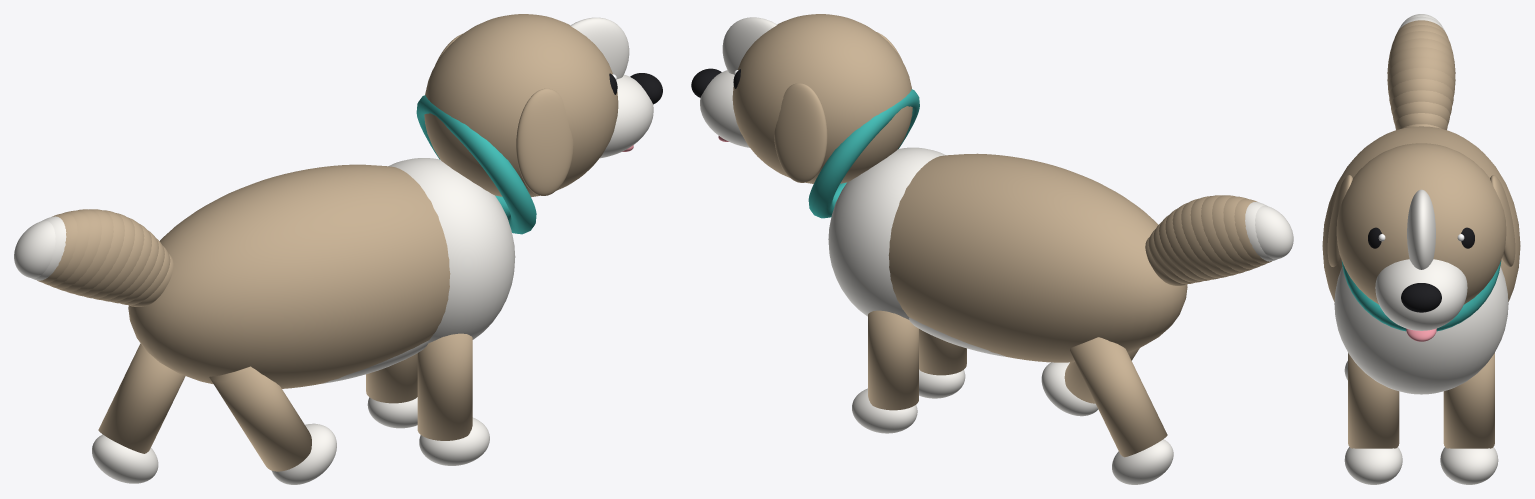
Rendered from shih_tzu.glb.
The picture shows the model from 3 angles, left to right: view 1: azimuth 30°, elevation 25°; view 2: azimuth 150°, elevation 25°; view 3: azimuth 270°, elevation 25°; orthographic projection. The views are drawn at different scales.
Parts seen in each view (by area): view 1: Body, Head, Chest, Leg3, Leg1, Leg2, Ear-1, Collar, Muzzle, Paw2, Leg0, Paw1 (+13 smaller); view 2: Body, Head, Chest, Leg2, Leg0, Ear1, Collar, Muzzle, Paw2, Leg1, Paw0, Tail13 (+13 smaller); view 3: Head, Chest, Body, Muzzle, Leg0, Leg1, Blaze, Paw0, Paw1, Collar, Nose, Ear1 (+15 smaller).
Part boxes in pixels (x1,y1,x2,y2): Body: [128, 164, 450, 388]; Head: [424, 14, 618, 197]; Chest: [388, 158, 515, 343]; Leg3: [209, 366, 311, 471]; Leg1: [417, 333, 472, 440]; Leg2: [98, 343, 185, 453]; Ear-1: [516, 88, 573, 195]; Collar: [416, 95, 536, 234]; Muzzle: [600, 74, 653, 158]; Paw2: [92, 434, 158, 483]; Leg0: [366, 353, 417, 403]; Paw1: [419, 417, 489, 465]; Body: [888, 153, 1187, 362]; Head: [732, 14, 912, 183]; Chest: [828, 147, 945, 319]; Leg2: [1070, 337, 1167, 457]; Leg0: [868, 310, 918, 410]; Ear1: [774, 83, 827, 182]; Collar: [808, 89, 919, 218]; Muzzle: [700, 70, 749, 147]; Paw2: [1112, 439, 1173, 484]; Leg1: [919, 329, 966, 375]; Paw0: [852, 388, 917, 433]; Tail13: [1255, 205, 1293, 259]; Head: [1336, 143, 1506, 304]; Chest: [1334, 266, 1508, 394]; Body: [1322, 126, 1520, 301]; Muzzle: [1375, 259, 1467, 330]; Leg0: [1443, 353, 1494, 448]; Leg1: [1348, 353, 1399, 448]; Blaze: [1407, 189, 1435, 269]; Paw0: [1440, 447, 1498, 484]; Paw1: [1344, 447, 1402, 484]; Collar: [1341, 260, 1501, 331]; Nose: [1401, 283, 1441, 312]; Ear1: [1490, 175, 1515, 266].
Size of the model in its own units: 2.02 by 1.2 by 0.58.
